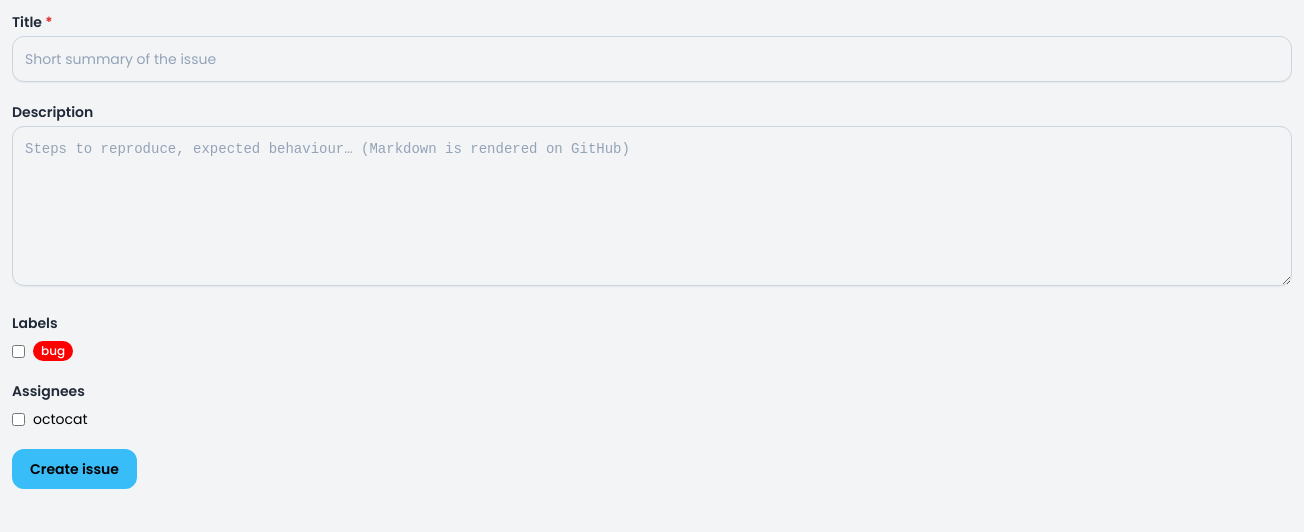
IssueForm › blocks submission without a title and shows the error
Click the button "Create issue". click: [74, 469]
box: [12,449,137,489]
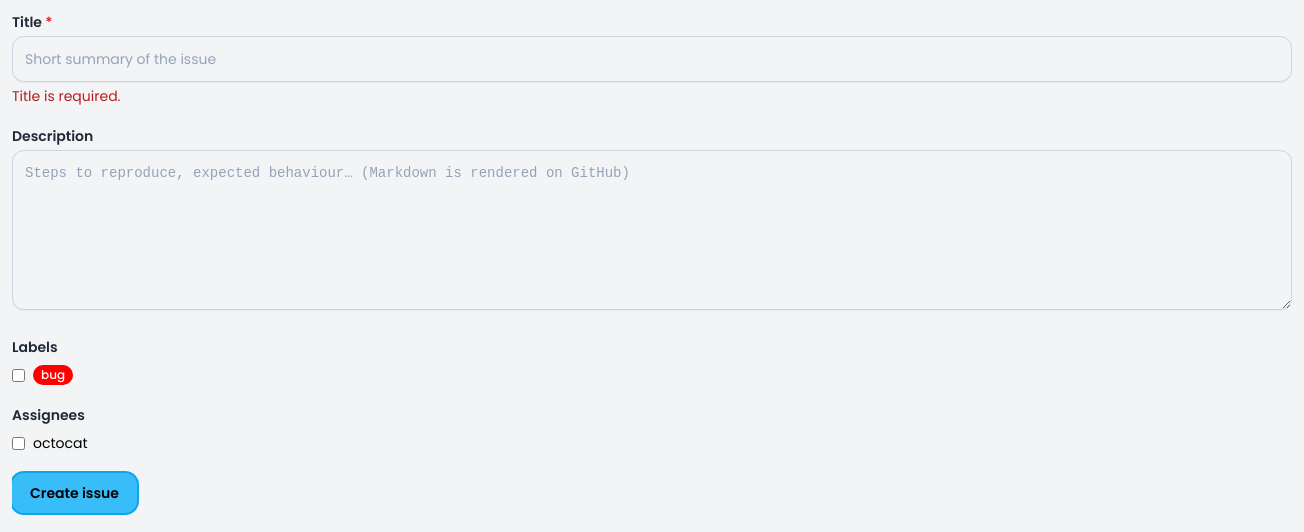
Expected: the text "Title is required." is shown, [12,86,120,106]
